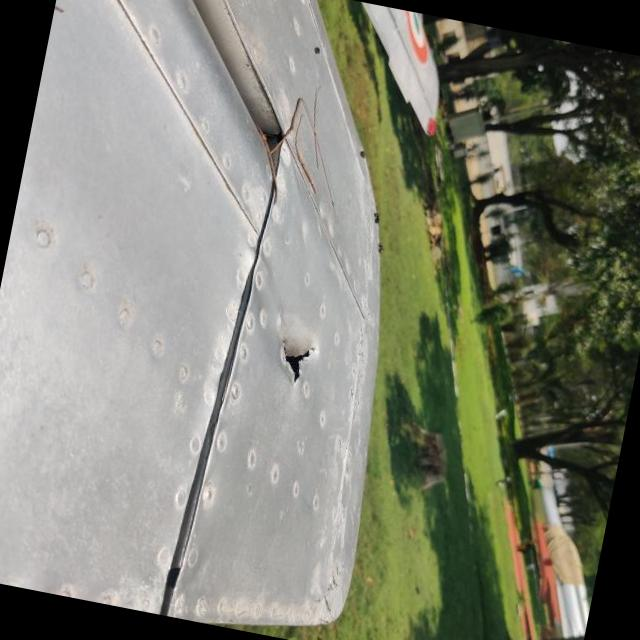Crack: (243, 308, 319, 398)
